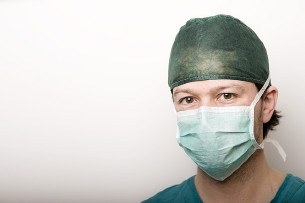Mask: (173, 80, 267, 176)
